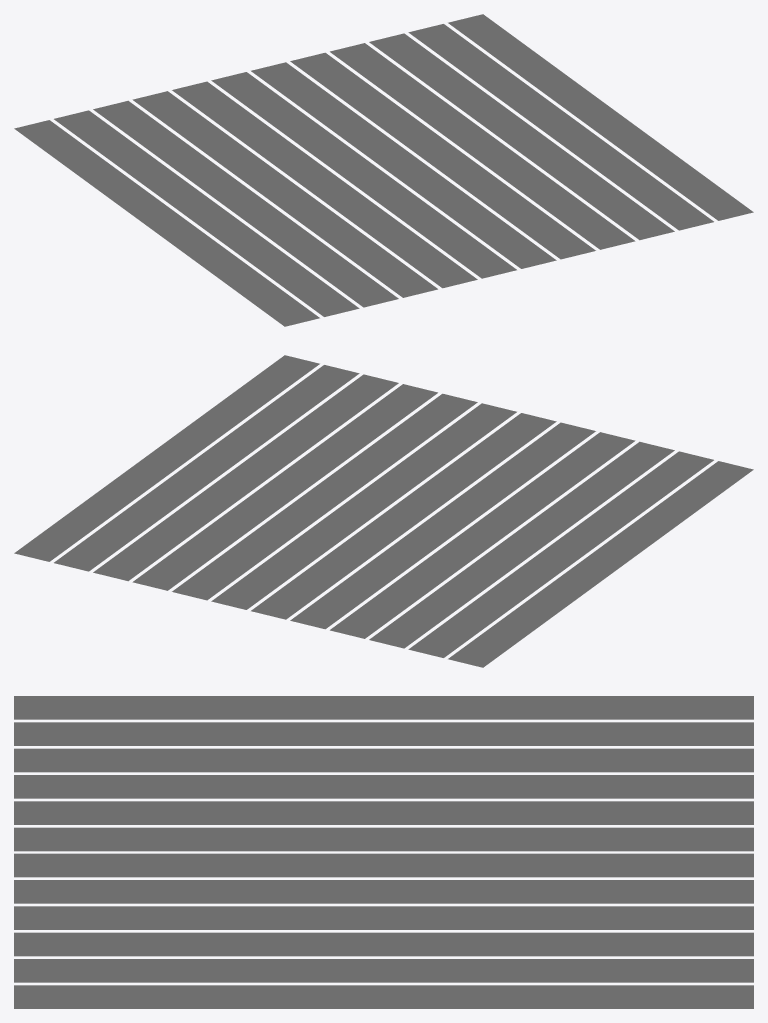
File: wall_004.glb
The picture shows the model from 3 angles, top to bottom: view 1: azimuth 30°, elevation 25°; view 2: azimuth 150°, elevation 25°; view 3: azimuth 270°, elevation 25°; orthographic projection. The views are drawn at different scales.
Parts seen in each view (by area): view 1: wall_004; view 2: wall_004; view 3: wall_004.
Part boxes in pixels (box(x1,y1,x2,y2)): wall_004: box(14, 14, 753, 326); wall_004: box(14, 355, 753, 667); wall_004: box(14, 696, 753, 1008).
Size of the model in its own units: 4 by 6.49e-07 by 4.
Materials: 1 (1 with a texture image).
